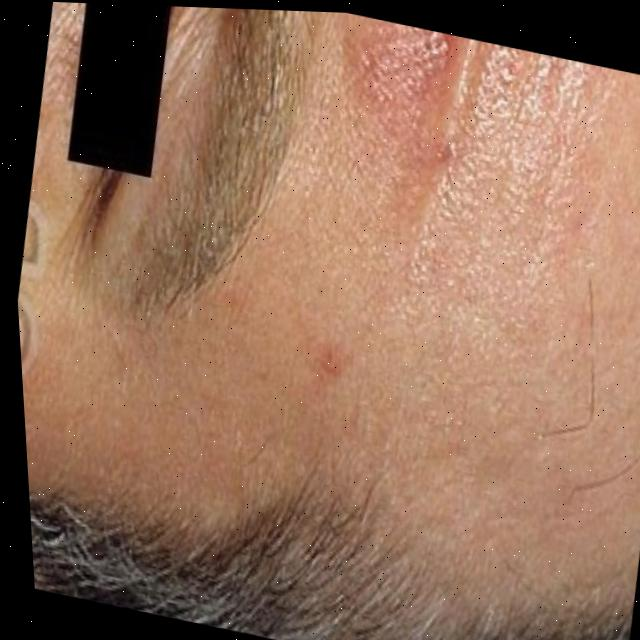Rosacea: (353, 18, 487, 163)
